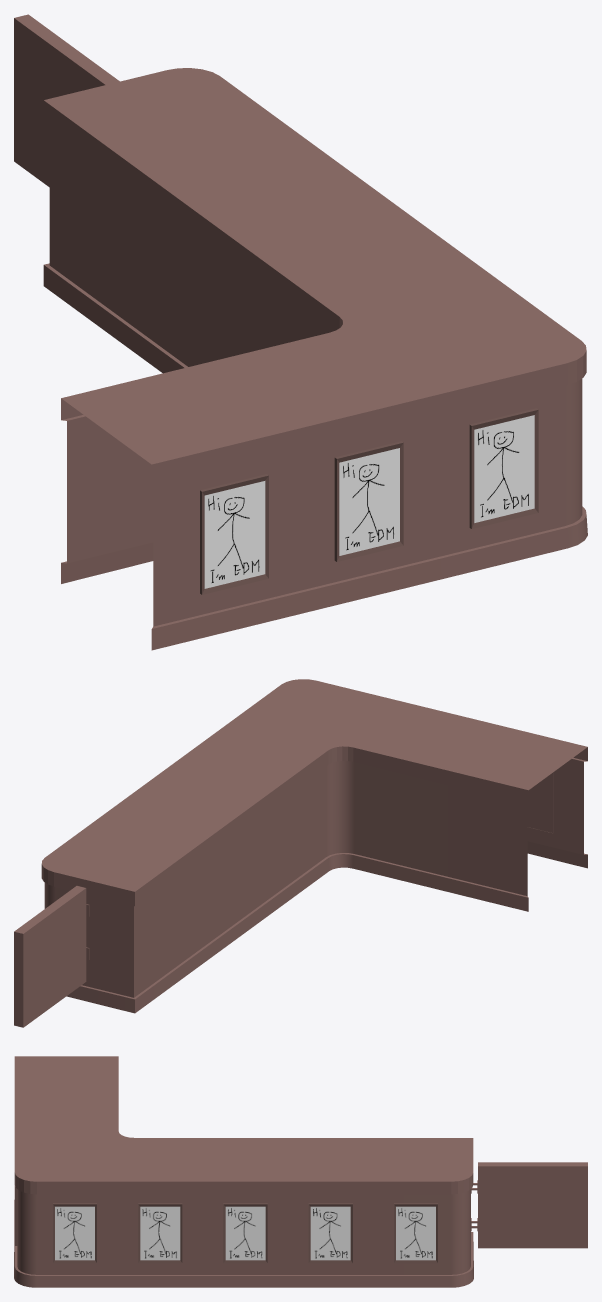
File: Bar.fbx
3 renders of one model, top to bottom at view 1: azimuth 30°, elevation 25°; view 2: azimuth 150°, elevation 25°; view 3: azimuth 270°, elevation 25°, orthographic. The views are drawn at different scales.
Visible parts, largest first — view 1: pCube43; view 2: pCube43; view 3: pCube43.
Part boxes in pixels (x1,y1,x2,y2): pCube43: (14, 14, 587, 650); pCube43: (14, 679, 587, 1027); pCube43: (14, 1056, 587, 1287).
Size of the model in its own units: 12.08 by 4.76 by 23.27.
3 materials, 1 textured.
